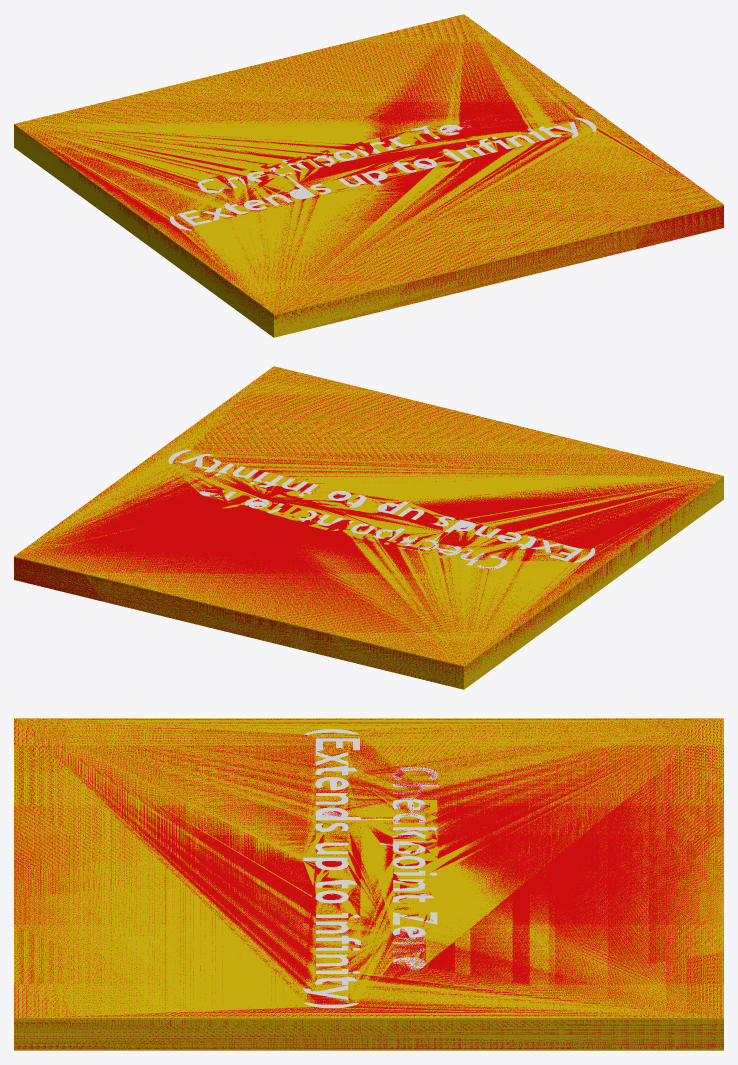
The model's file is zones.glb.
The picture shows the model from 3 angles, top to bottom: view 1: azimuth 30°, elevation 25°; view 2: azimuth 150°, elevation 25°; view 3: azimuth 270°, elevation 25°; orthographic projection. The views are drawn at different scales.
Parts seen in each view (by area): view 1: CheckpointZone, FinishZone; view 2: CheckpointZone, FinishZone; view 3: CheckpointZone, FinishZone.
Part boxes in pixels (<box>): CheckpointZone: <box>14,14,723,337</box>; FinishZone: <box>14,14,723,334</box>; CheckpointZone: <box>14,366,723,689</box>; FinishZone: <box>14,367,723,687</box>; CheckpointZone: <box>14,718,723,1050</box>; FinishZone: <box>14,718,723,1048</box>.
Bounding box in the file's own units: 20 × 1 × 20.
